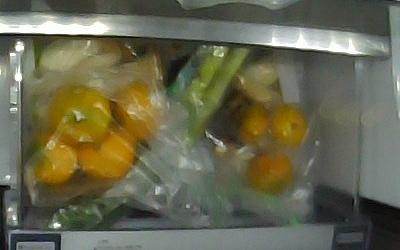tangerine_vinyl: (46, 80, 112, 145), (107, 76, 162, 140), (76, 122, 134, 179), (23, 125, 76, 185), (243, 148, 294, 196), (269, 102, 307, 148), (234, 102, 271, 145)
